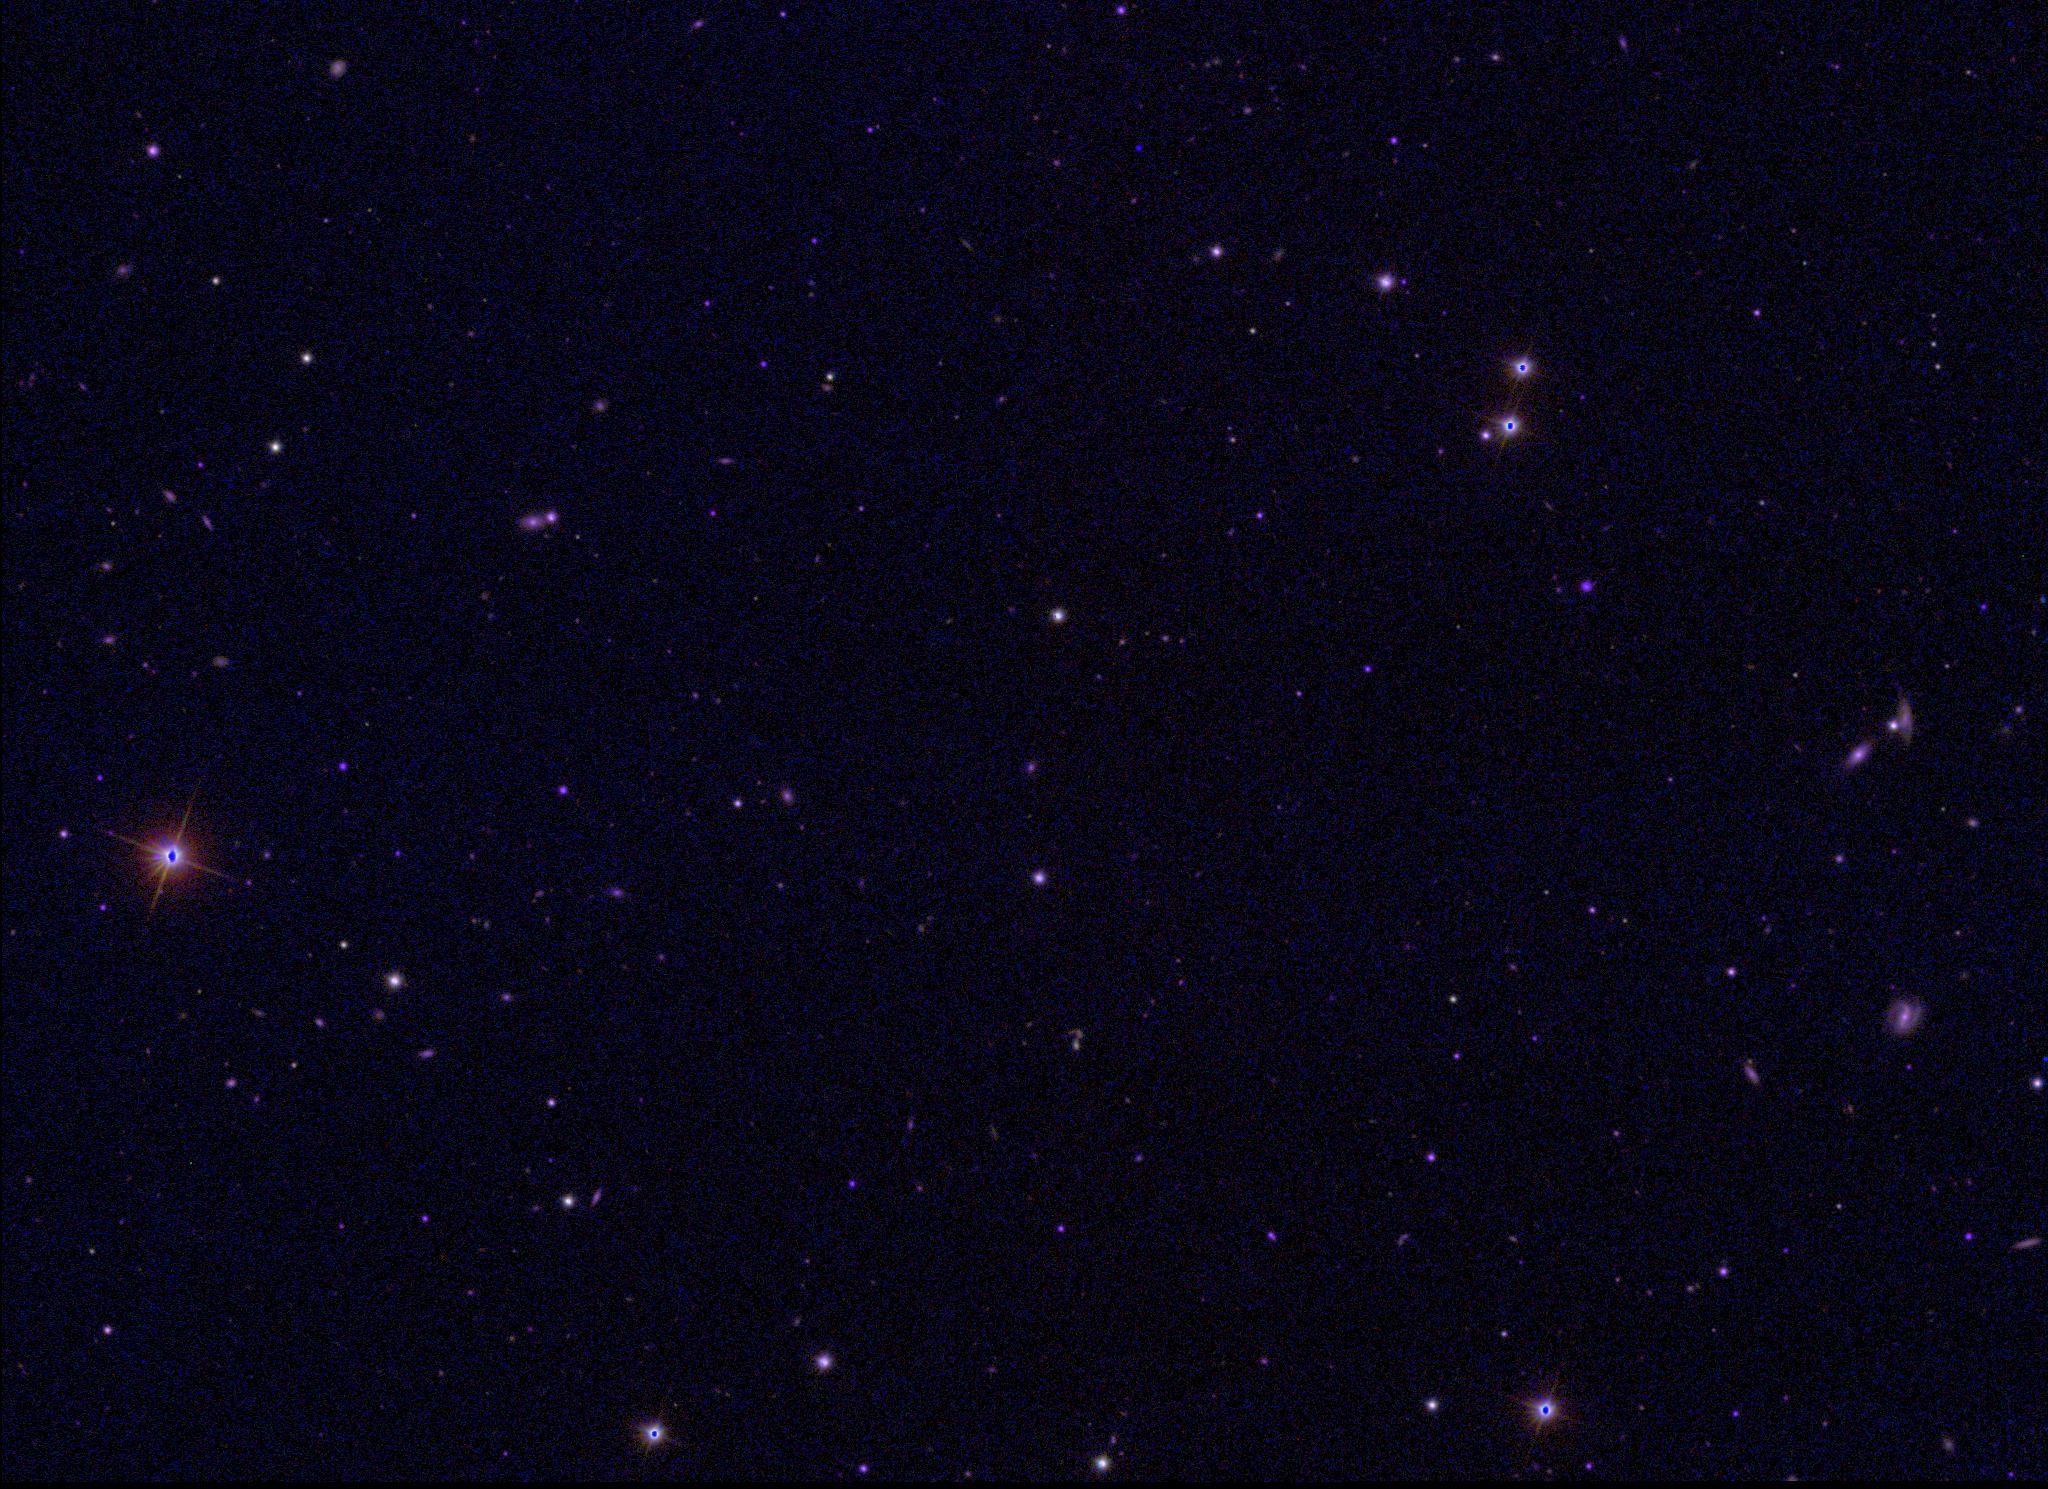L: (1131, 140, 1143, 154)
